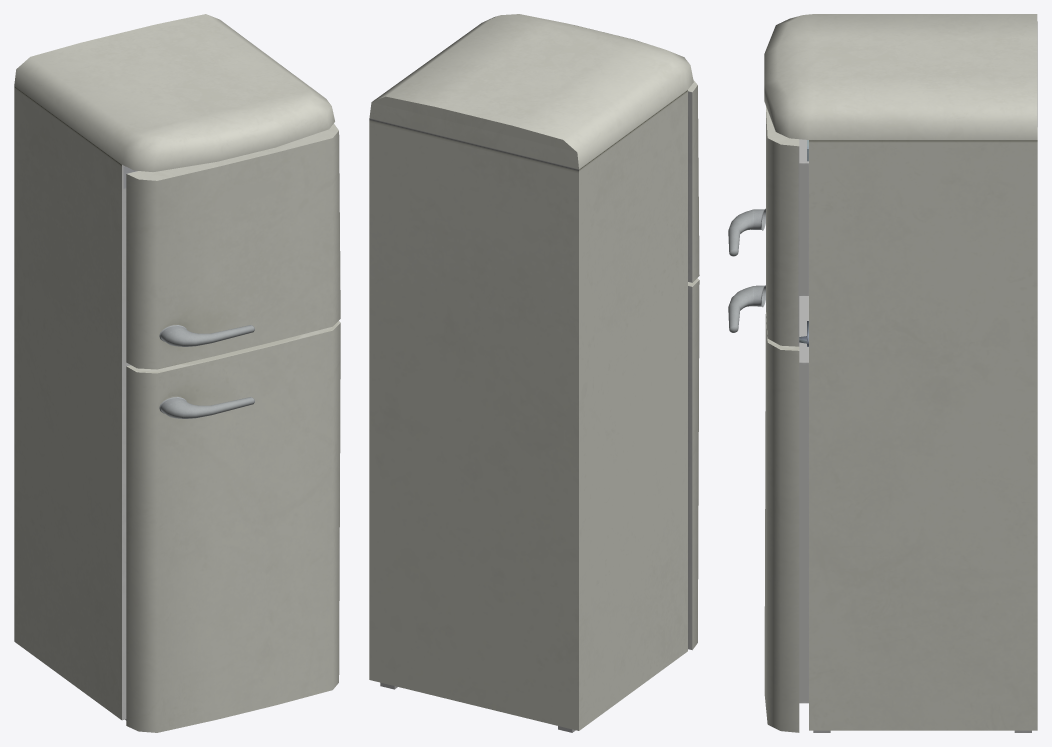
File: FridgePenisEdition.fbx
3 views of the same model, side by side, from view 1: azimuth 30°, elevation 25°; view 2: azimuth 150°, elevation 25°; view 3: azimuth 270°, elevation 25° (orthographic). The views are drawn at different scales.
Visible parts, largest first — view 1: Fridge, Fridge_Doors, Fridge_Doors.001; view 2: Fridge, Fridge_Doors, Fridge_Doors.001; view 3: Fridge, Fridge_Doors, Fridge_Doors.001.
Boxes of the visible parts, x1,y1,x2,y2 form: Fridge: (14,14,334,720); Fridge_Doors: (126,321,340,732); Fridge_Doors.001: (126,123,340,369); Fridge: (369,14,693,732); Fridge_Doors: (688,278,699,650); Fridge_Doors.001: (688,80,699,282); Fridge: (764,14,1037,732); Fridge_Doors: (728,285,808,732); Fridge_Doors.001: (728,106,808,346).
Size of the model in its own units: 63.44 by 172 by 77.14.
